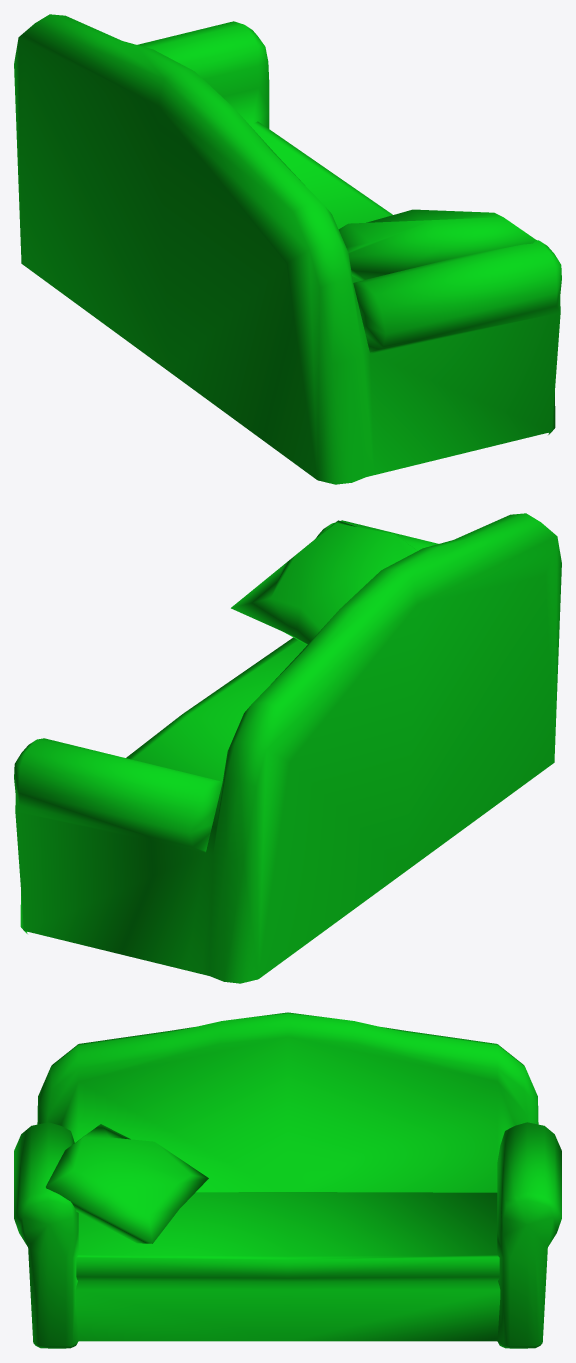
The model's file is sofabig.fbx.
3 views of the same model, one above another, from view 1: azimuth 30°, elevation 25°; view 2: azimuth 150°, elevation 25°; view 3: azimuth 270°, elevation 25° (orthographic). The views are drawn at different scales.
Parts seen in each view (by area): view 1: SofaDouble; view 2: SofaDouble; view 3: SofaDouble.
Boxes of the visible parts, x1,y1,x2,y2 form: SofaDouble: [14, 14, 561, 484]; SofaDouble: [14, 513, 561, 983]; SofaDouble: [14, 1012, 561, 1348].
Bounding box in the file's own units: 134 × 144 × 290.
